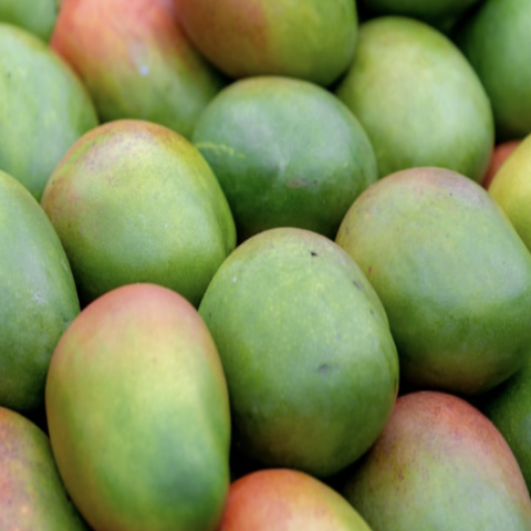mango: (179, 221, 413, 471), (29, 278, 252, 529), (333, 146, 531, 415), (181, 48, 388, 237)
